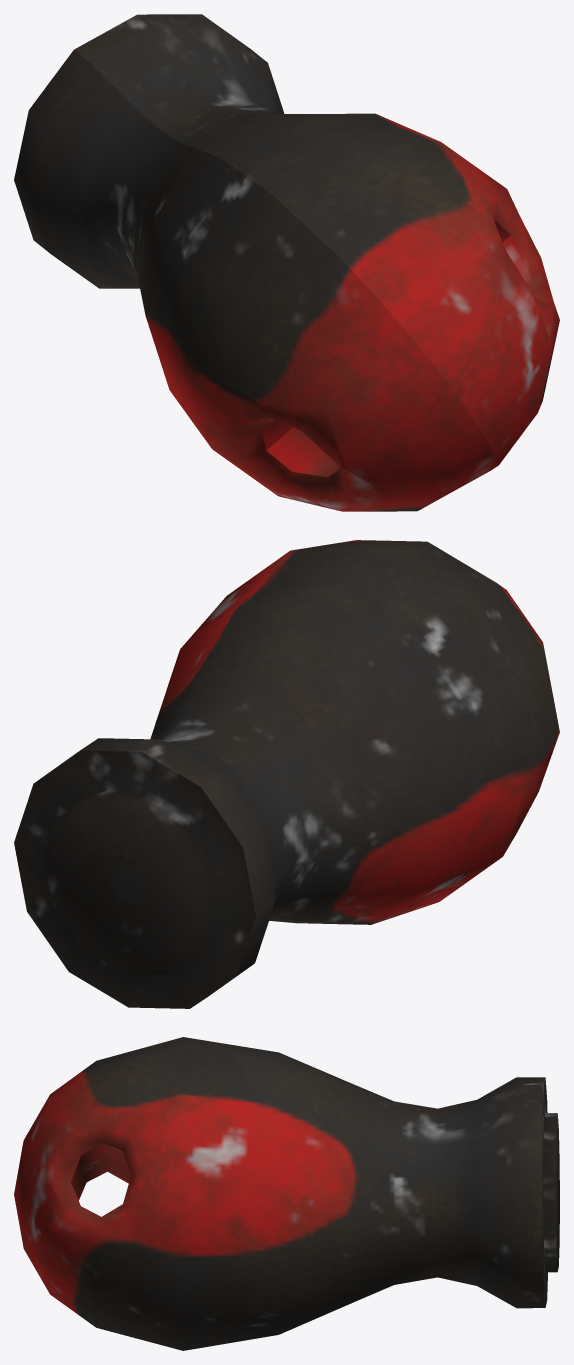
The model's file is Screwdriver_S_Handle_low.obj.
3 views of the same model, one above another, from view 1: azimuth 30°, elevation 25°; view 2: azimuth 150°, elevation 25°; view 3: azimuth 270°, elevation 25° (orthographic). The views are drawn at different scales.
Size of the model in its own units: 0.0343 by 0.0343 by 0.0592.
Materials: 1 (1 with a texture image).
